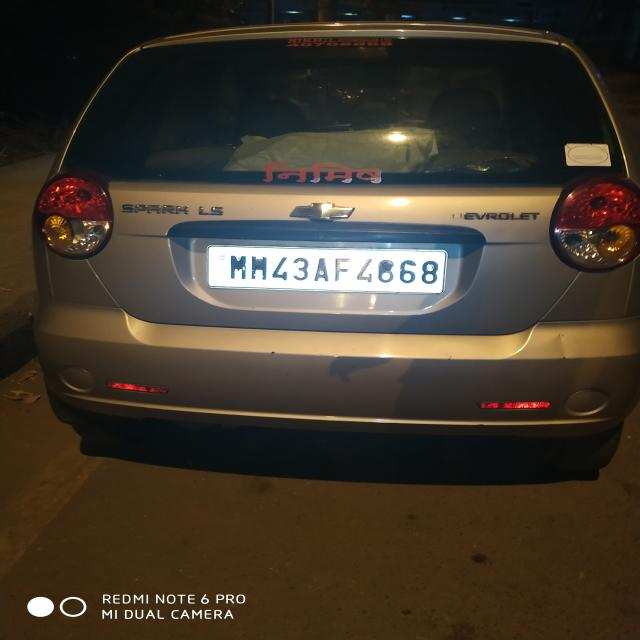Number-Plate: (214, 248, 443, 290)
